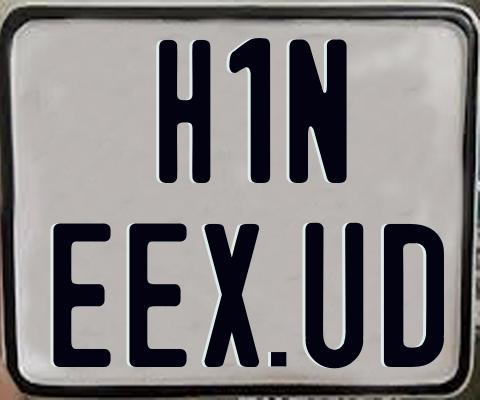1: (227, 35, 272, 182)
D: (381, 222, 442, 371)
E: (128, 222, 191, 371), (50, 220, 112, 364)
H: (158, 38, 213, 181)
N: (287, 39, 348, 186)
U: (305, 220, 366, 366)
X: (204, 223, 260, 367)
